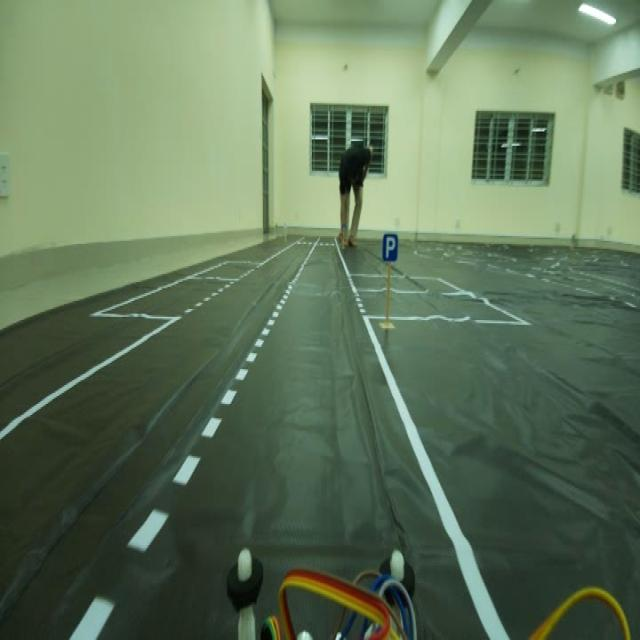parking: (379, 229, 397, 267)
